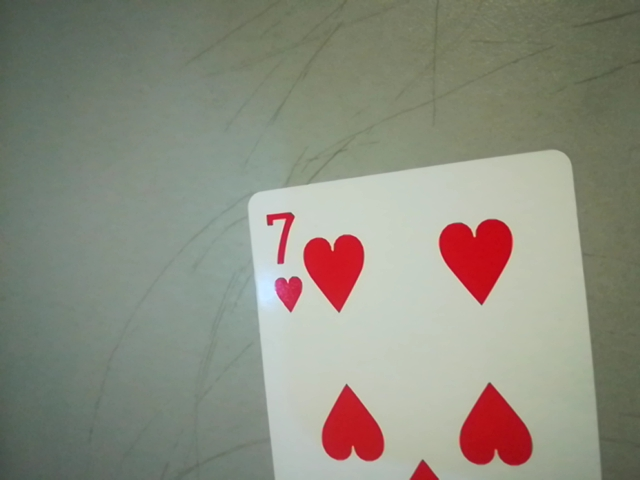hx 7: (253, 203, 305, 318)
